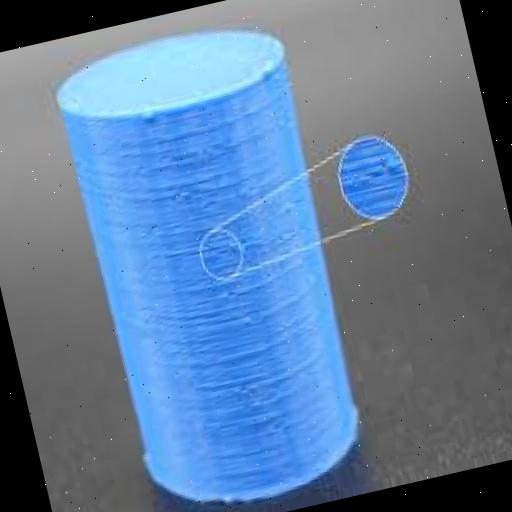blobs: (168, 335, 274, 404), (159, 149, 232, 223), (252, 51, 292, 95), (130, 104, 173, 132)
